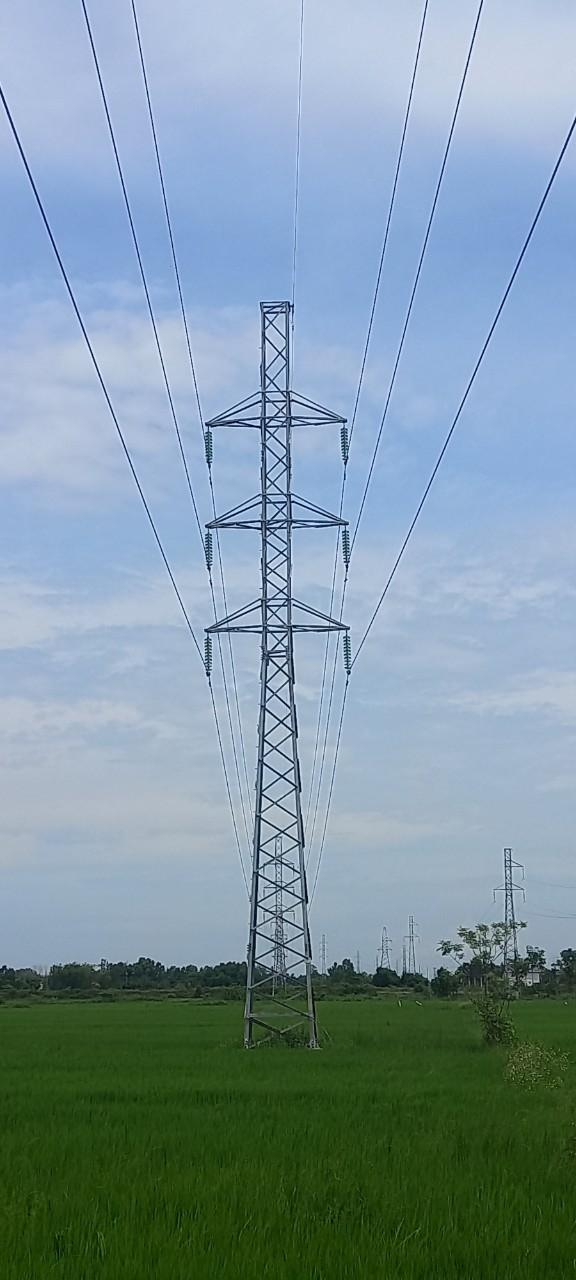power_tower: (180, 292, 372, 1056)
